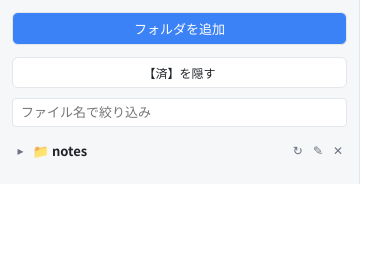
Test: Sidebar › hide_done 中は非表示の【済】ファイルを全選択の対象に含めない
Step 1. Click the button named "notes を展開する" → {"x": 20, "y": 150}, box [12,142,29,160]
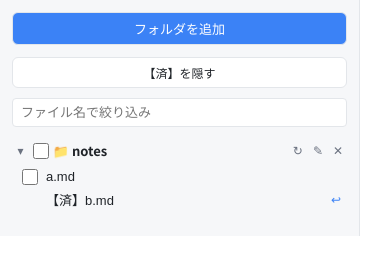
Step 2. Click the button "【済】を隠す" → {"x": 180, "y": 72}, box [12,57,347,88]
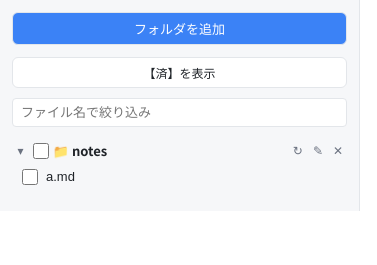
Step 3. Click the checkbox named "notes のファイルをすべて選択" → {"x": 41, "y": 150}, box [33,142,49,158]
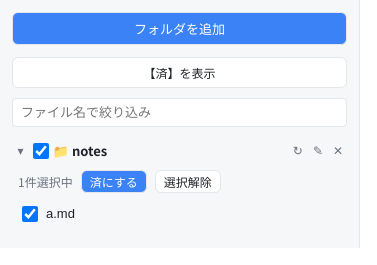
Result: the text "1件選択中" is shown at [18,173,73,190]
